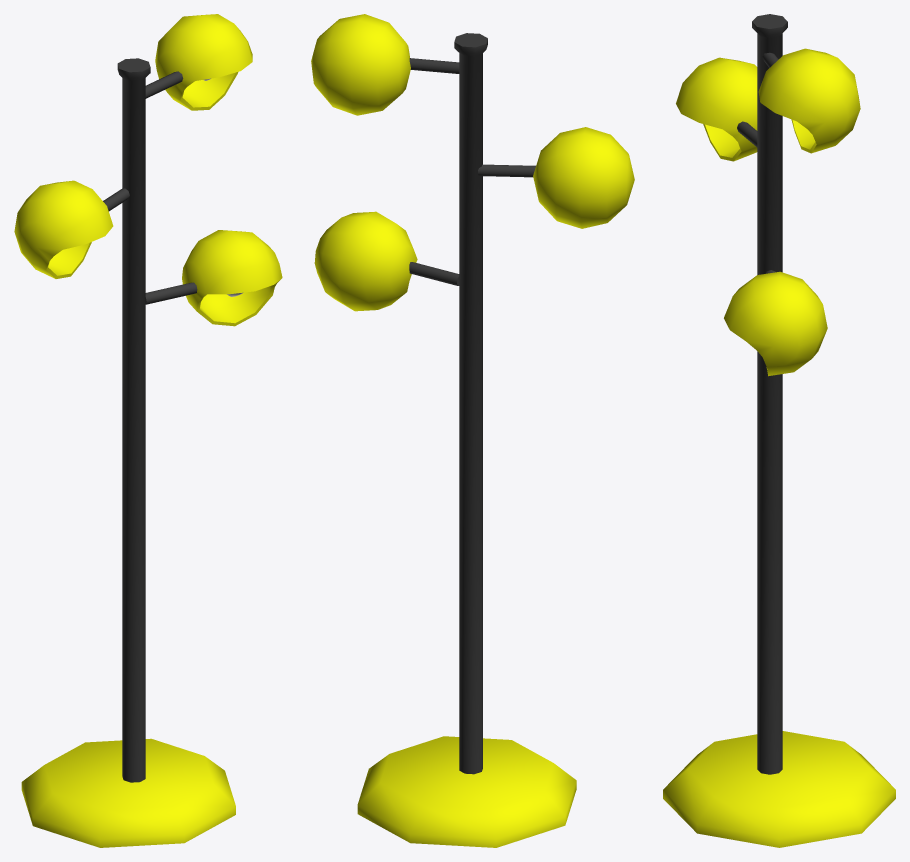
The model's file is Floor_Lamp_07.FBX.
The picture shows the model from 3 angles, left to right: view 1: azimuth 30°, elevation 25°; view 2: azimuth 150°, elevation 25°; view 3: azimuth 270°, elevation 25°; orthographic projection. The views are drawn at different scales.
Parts seen in each view (by area): view 1: Floor_Lamp; view 2: Floor_Lamp; view 3: Floor_Lamp.
Part boxes in pixels (left/top/right/bottom): Floor_Lamp: left=14, top=14, right=282, bottom=847; Floor_Lamp: left=311, top=14, right=634, bottom=847; Floor_Lamp: left=663, top=14, right=895, bottom=847.
Size of the model in its own units: 106 by 275 by 73.35.
